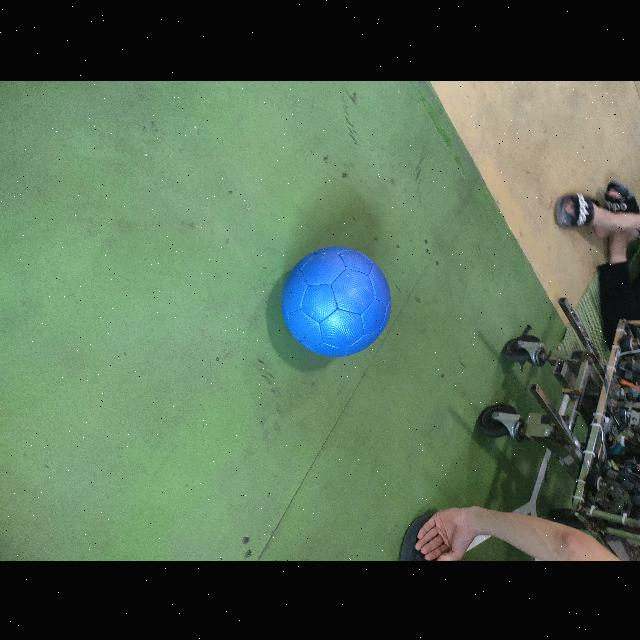B: (278, 245, 390, 359)
